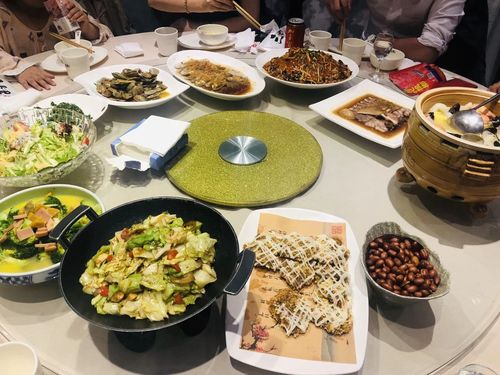food: (63, 187, 235, 332), (228, 221, 359, 369), (165, 107, 323, 205), (0, 96, 100, 185), (1, 180, 88, 281), (356, 225, 449, 314), (318, 82, 413, 147), (167, 45, 265, 102), (254, 42, 363, 93), (422, 82, 496, 151), (85, 56, 183, 108)
